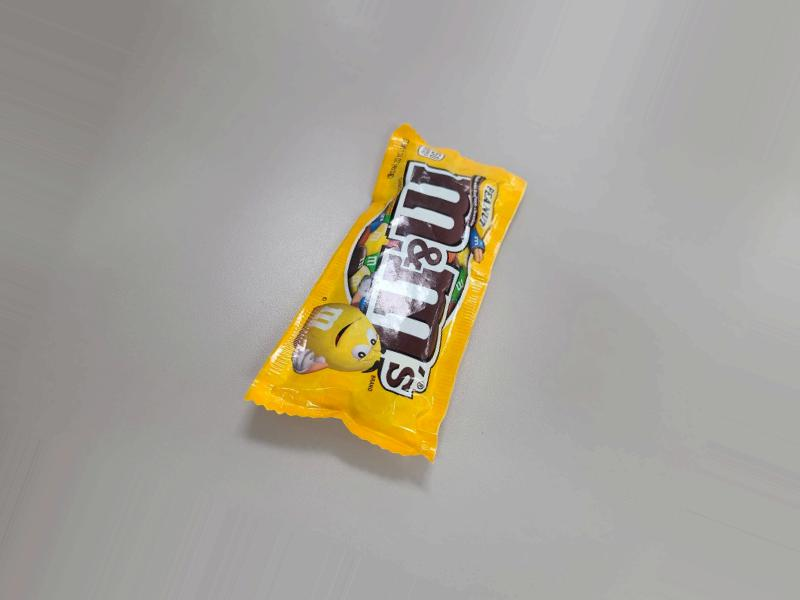m&m: (253, 120, 533, 482)
